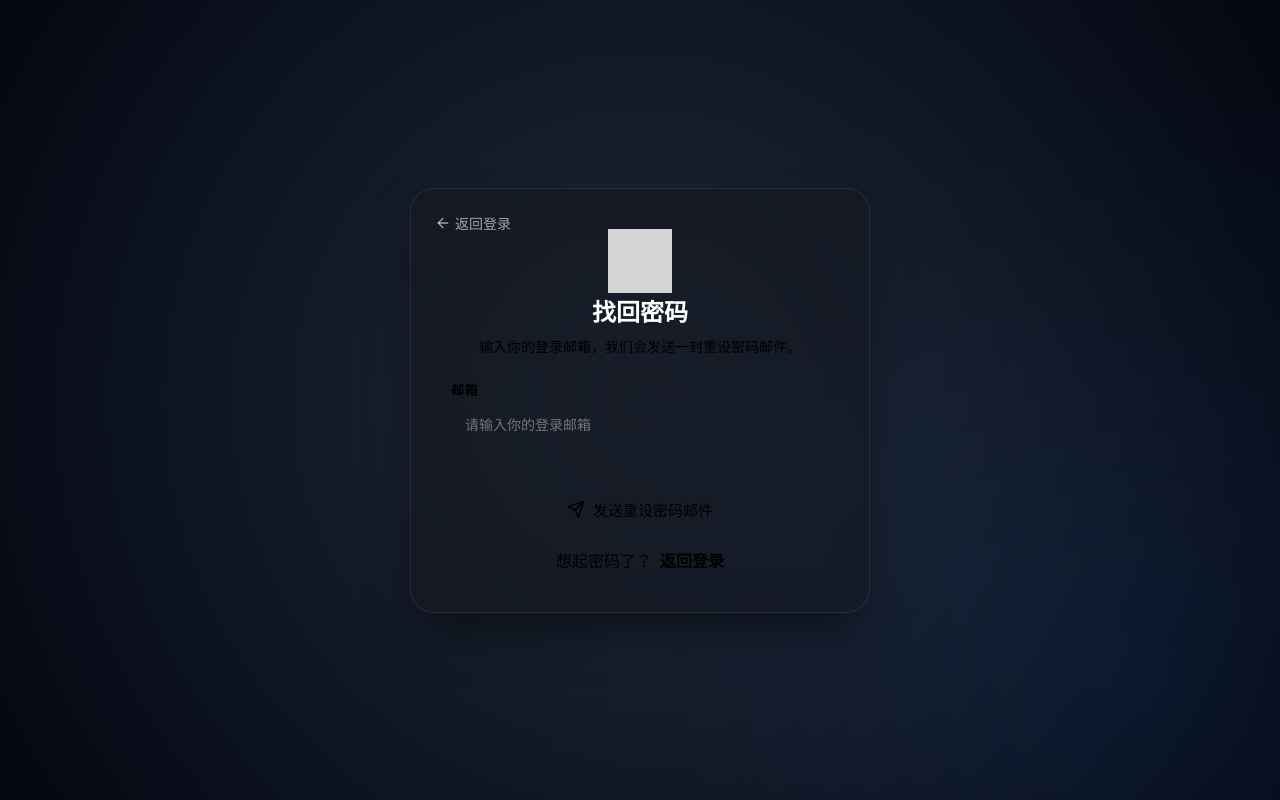
Test case: Auth frontend closure › forgot password sends reset email with recovery redirect
Type "reset@filmory.app" into the field labelled "邮箱" at (640, 424), box [451,406,829,442]
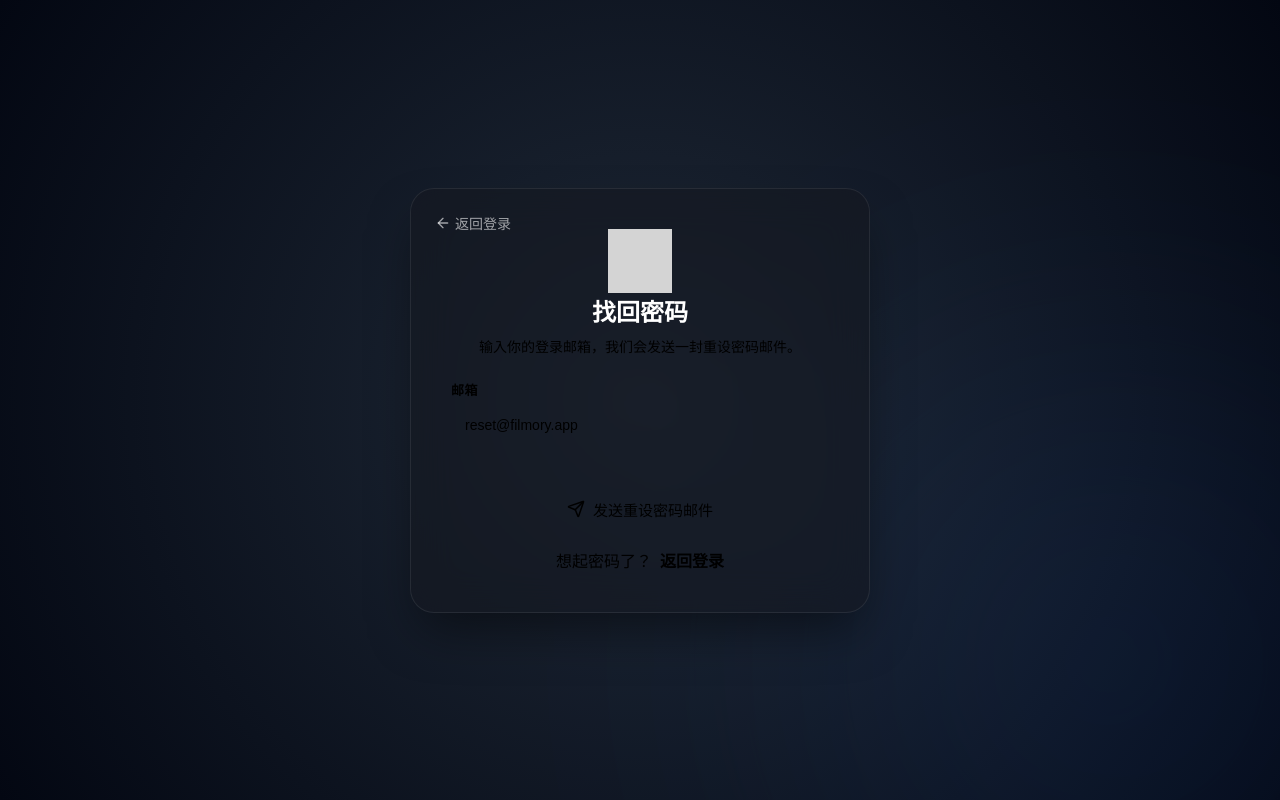
Click the button "发送重设密码邮件" at (640, 509), box [451,486,829,532]
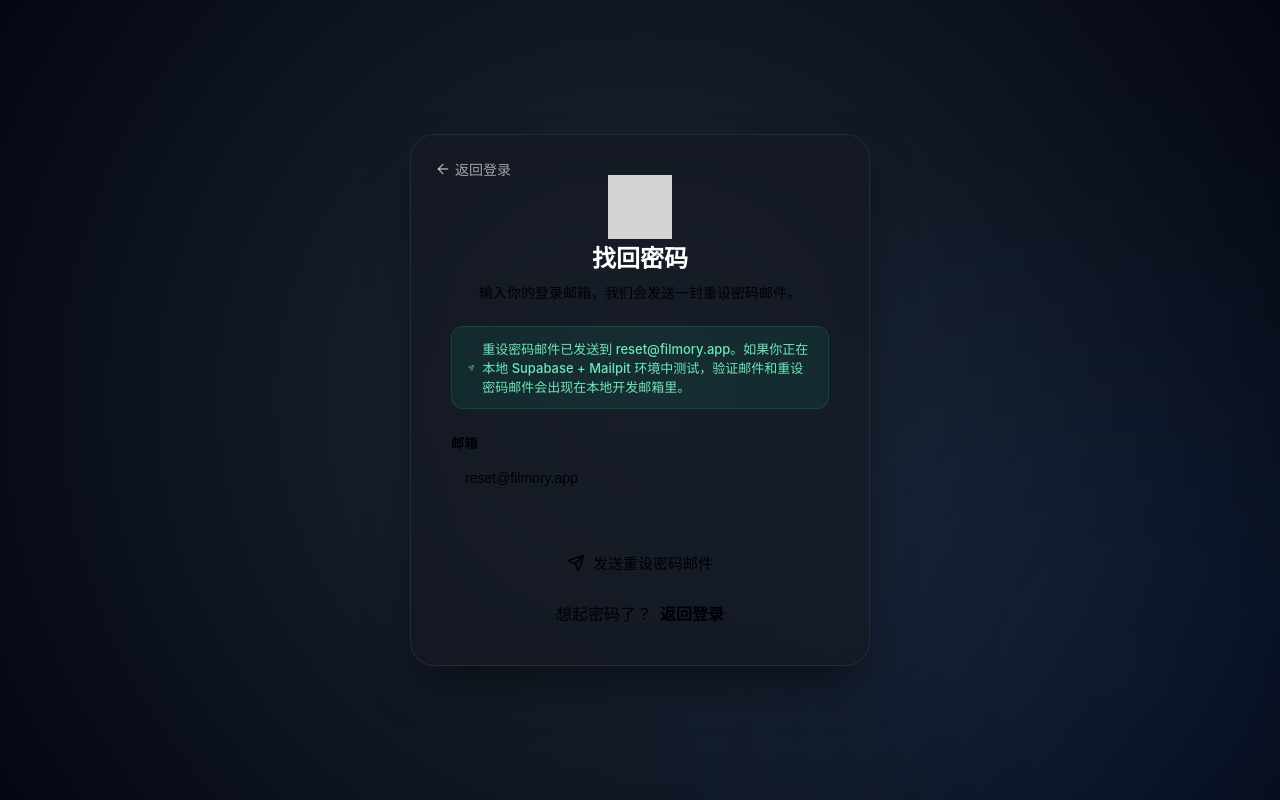
Check: the text "重设密码邮件已发送到 reset@filmory.app" is shown, box [482,341,808,395]
